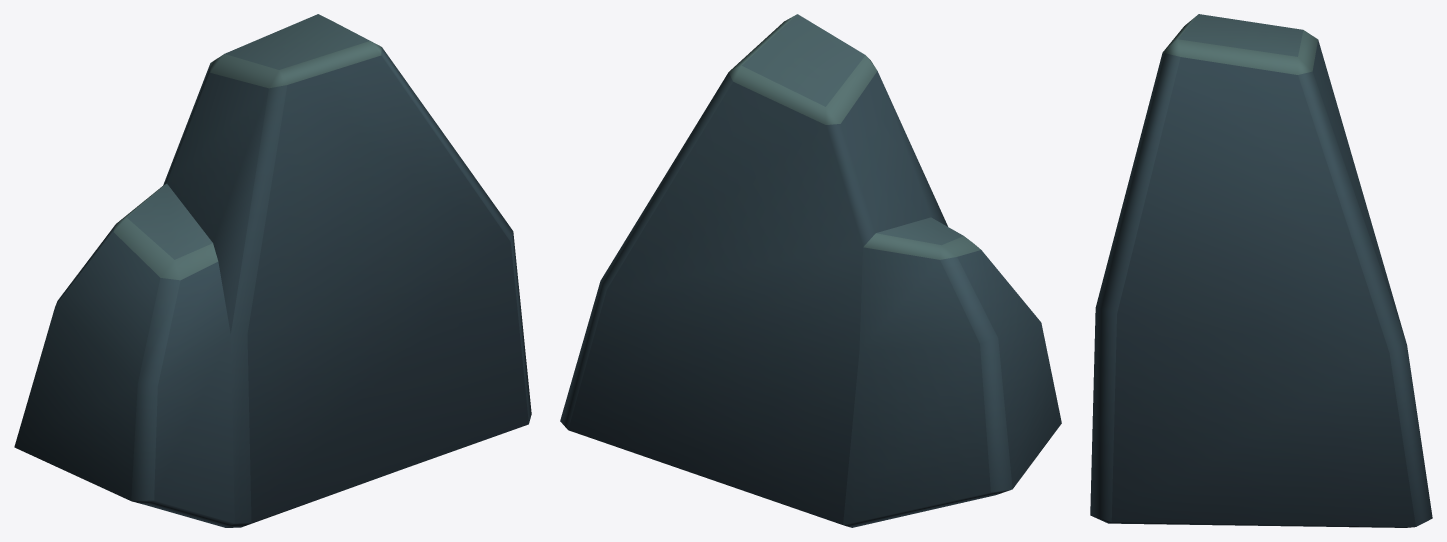
File: rock_24.fbx
The picture shows the model from 3 angles, left to right: view 1: azimuth 30°, elevation 25°; view 2: azimuth 150°, elevation 25°; view 3: azimuth 270°, elevation 25°; orthographic projection. The views are drawn at different scales.
Parts seen in each view (by area): view 1: rock_24; view 2: rock_24; view 3: rock_24.
Part boxes in pixels (x1,y1,x2,y2): rock_24: (14,14,531,527); rock_24: (560,14,1061,527); rock_24: (1090,14,1432,527).
Bounding box in the file's own units: 256 × 246 × 163.
